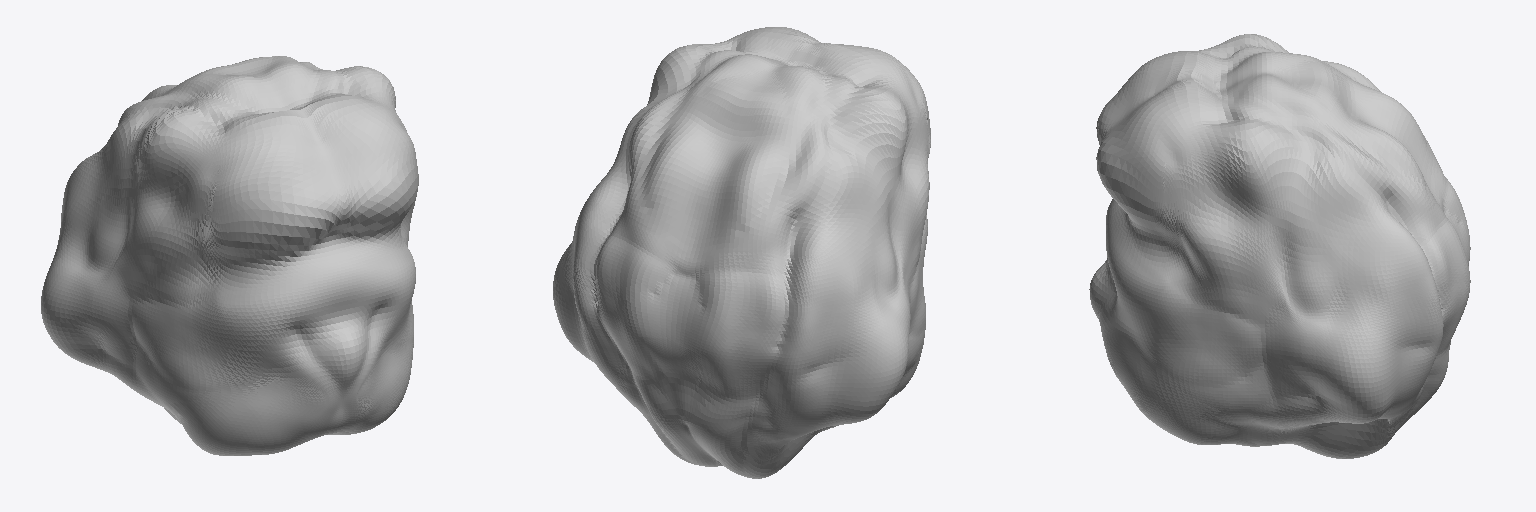
The model's file is lionFace1.obj.
The picture shows the model from 3 angles: view 1: azimuth 30°, elevation 25°; view 2: azimuth 150°, elevation 25°; view 3: azimuth 270°, elevation 25°; orthographic projection.
Parts seen in each view (by area): view 1: Quad_Sphere; view 2: Quad_Sphere; view 3: Quad_Sphere.
Part boxes in pixels (x1,y1,x2,y2): Quad_Sphere: (41,56,418,455); Quad_Sphere: (553,27,930,478); Quad_Sphere: (1089,34,1470,458).
Size of the model in its own units: 3.33 by 3.46 by 3.17.